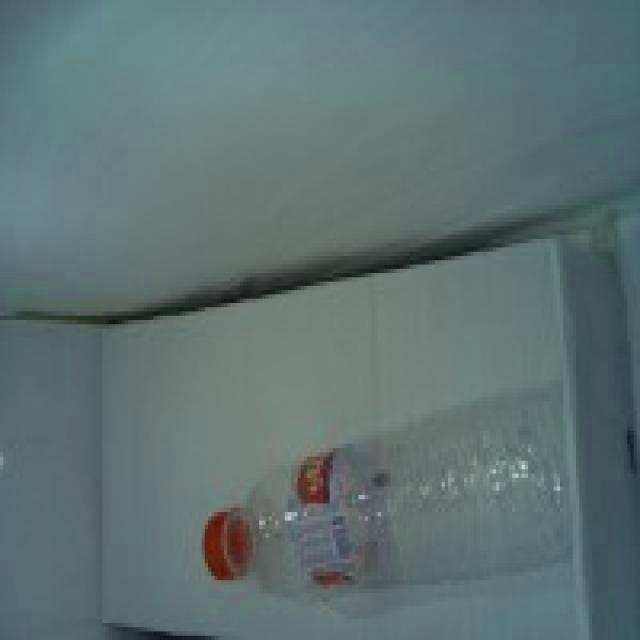bottle: (204, 425, 572, 602)
